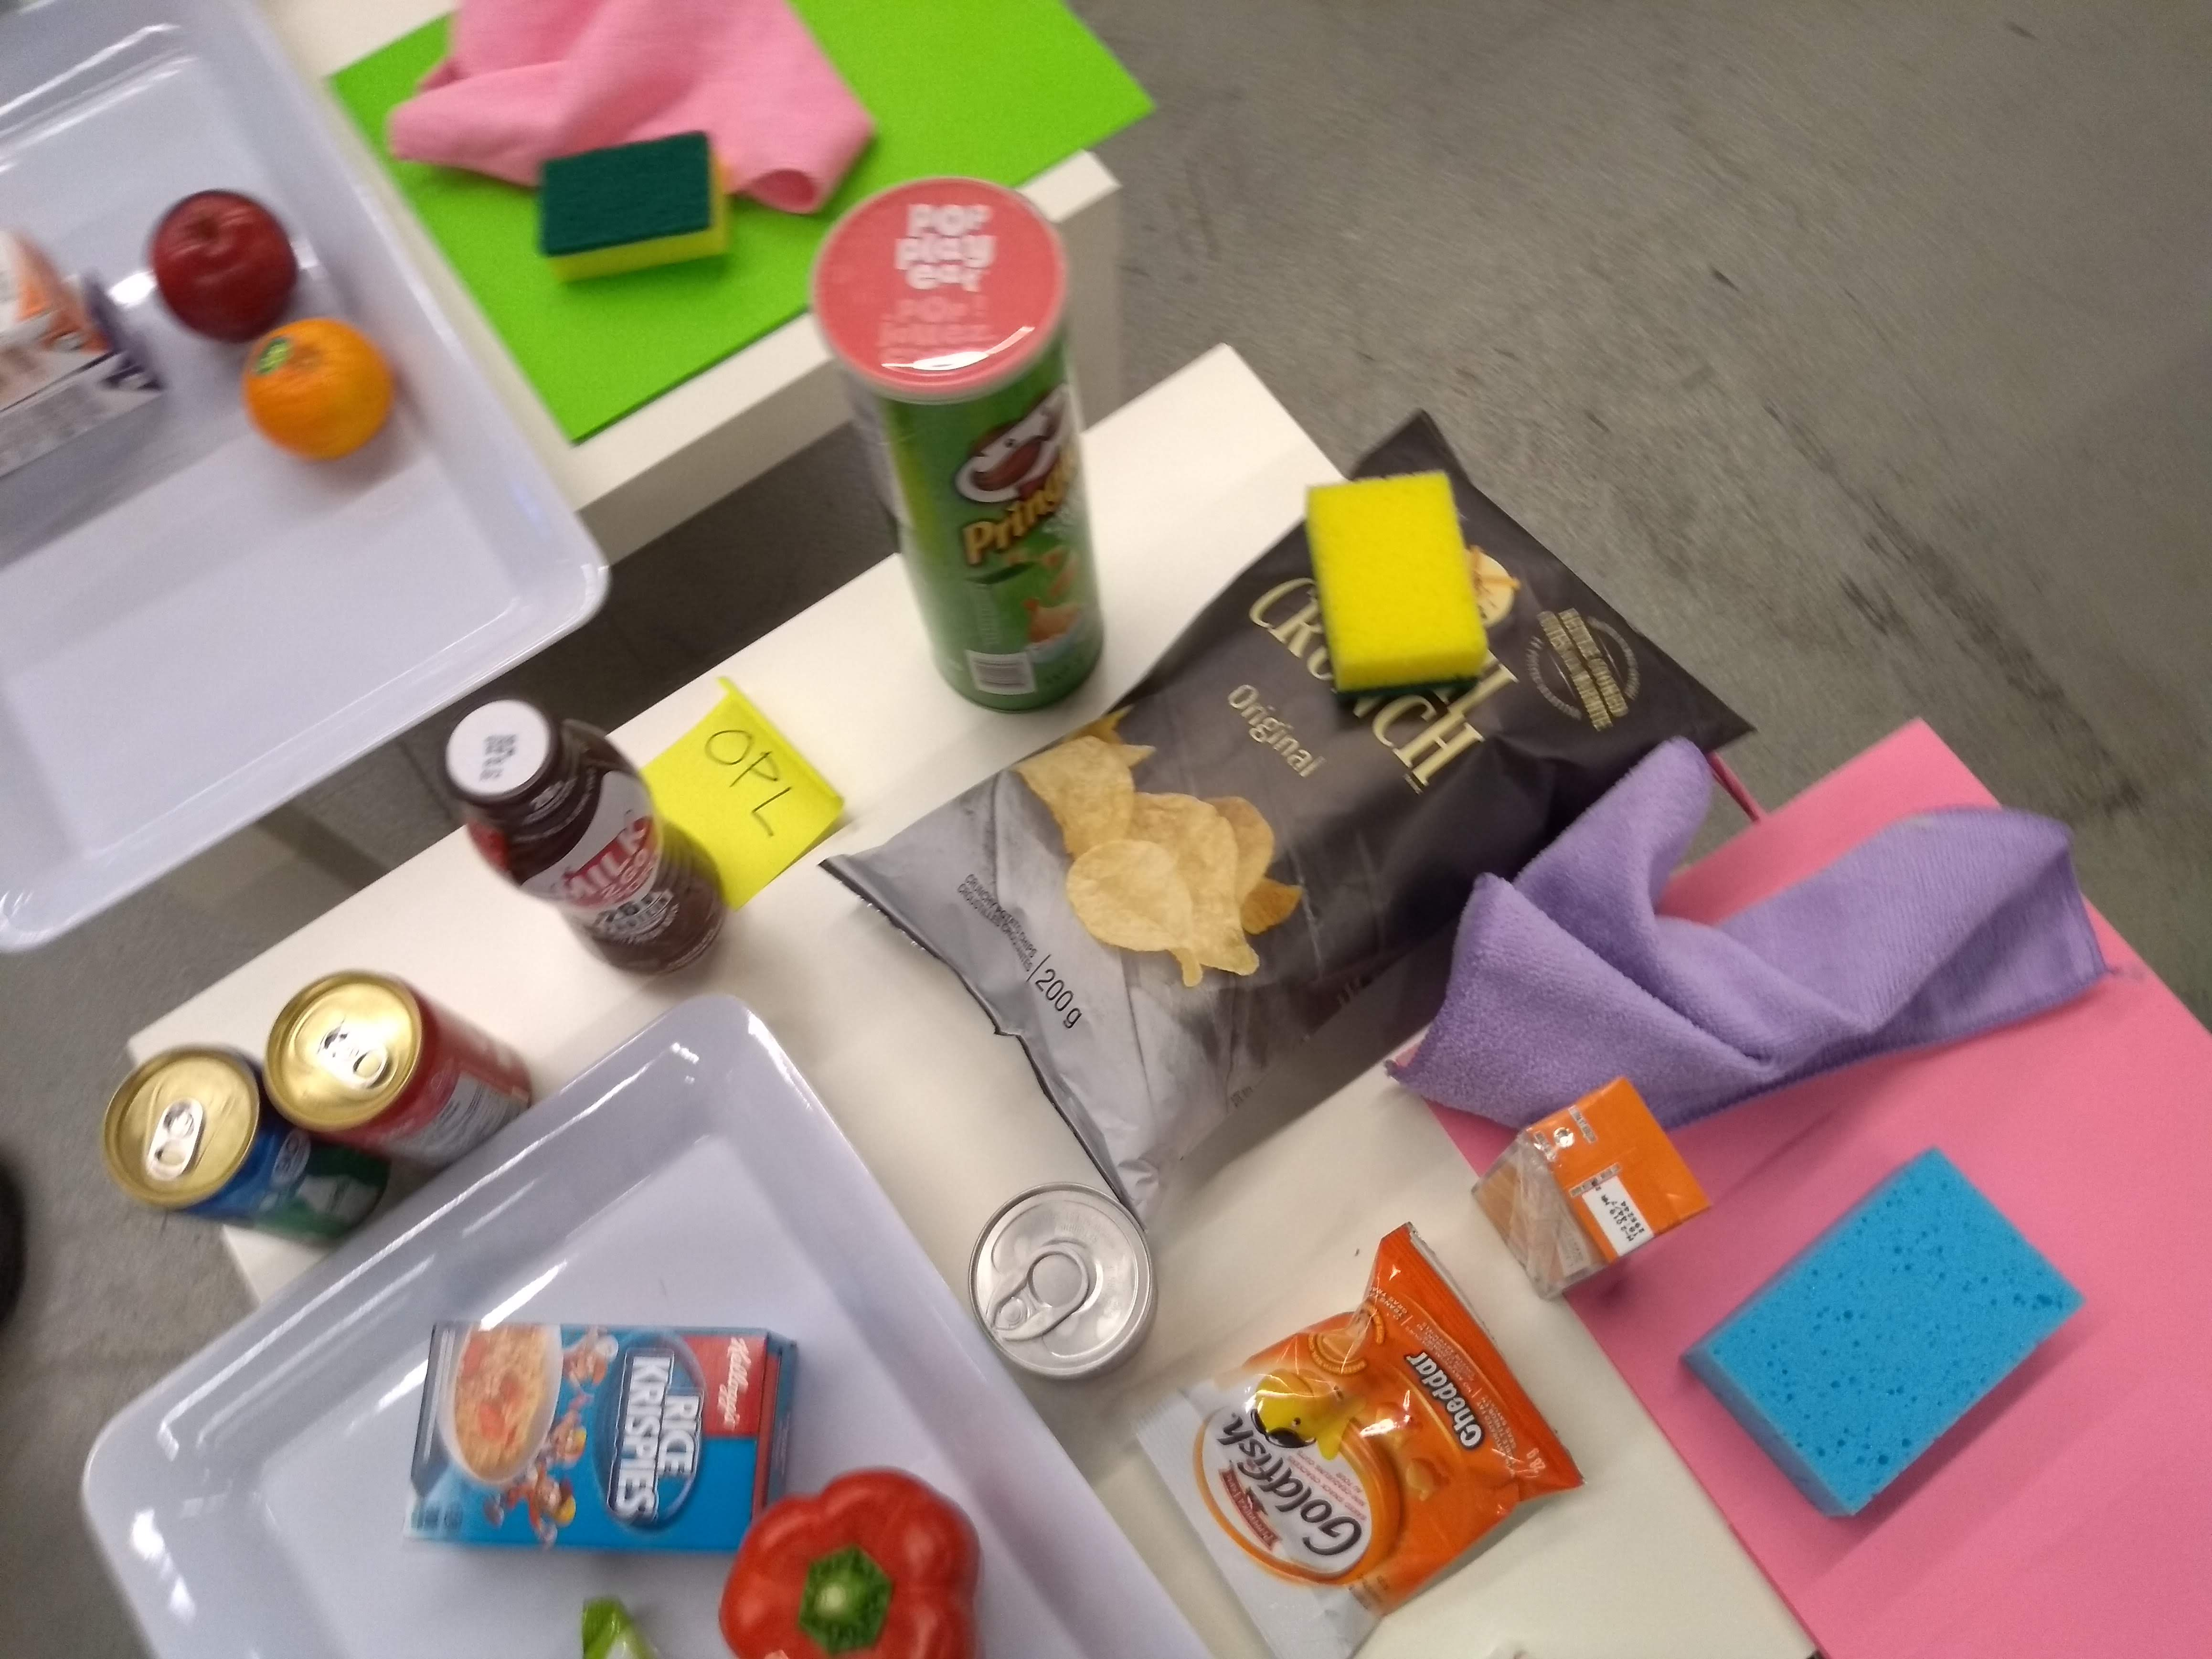cereal: (388, 1303, 808, 1568)
chocolate_drink: (425, 692, 747, 1002)
cloth_opl: (1383, 716, 2127, 1154)
coke: (256, 965, 540, 1180), (136, 178, 308, 345)
crackers: (1090, 1213, 1601, 1659)
orange: (237, 315, 408, 476)
orange_juice: (1454, 1065, 1716, 1310)
paprika: (712, 1462, 988, 1659)
pringles: (803, 167, 1120, 727)
sausages: (958, 1180, 1170, 1391)
scrubby: (1285, 462, 1498, 697), (529, 127, 737, 291)
sponge_opl: (1672, 1143, 2097, 1532)
sprite: (99, 1032, 399, 1269)
